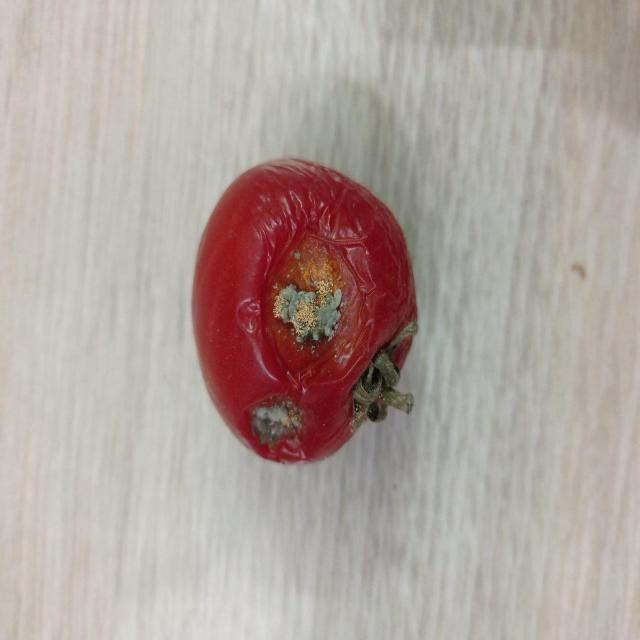Rotten: (192, 154, 418, 466)
